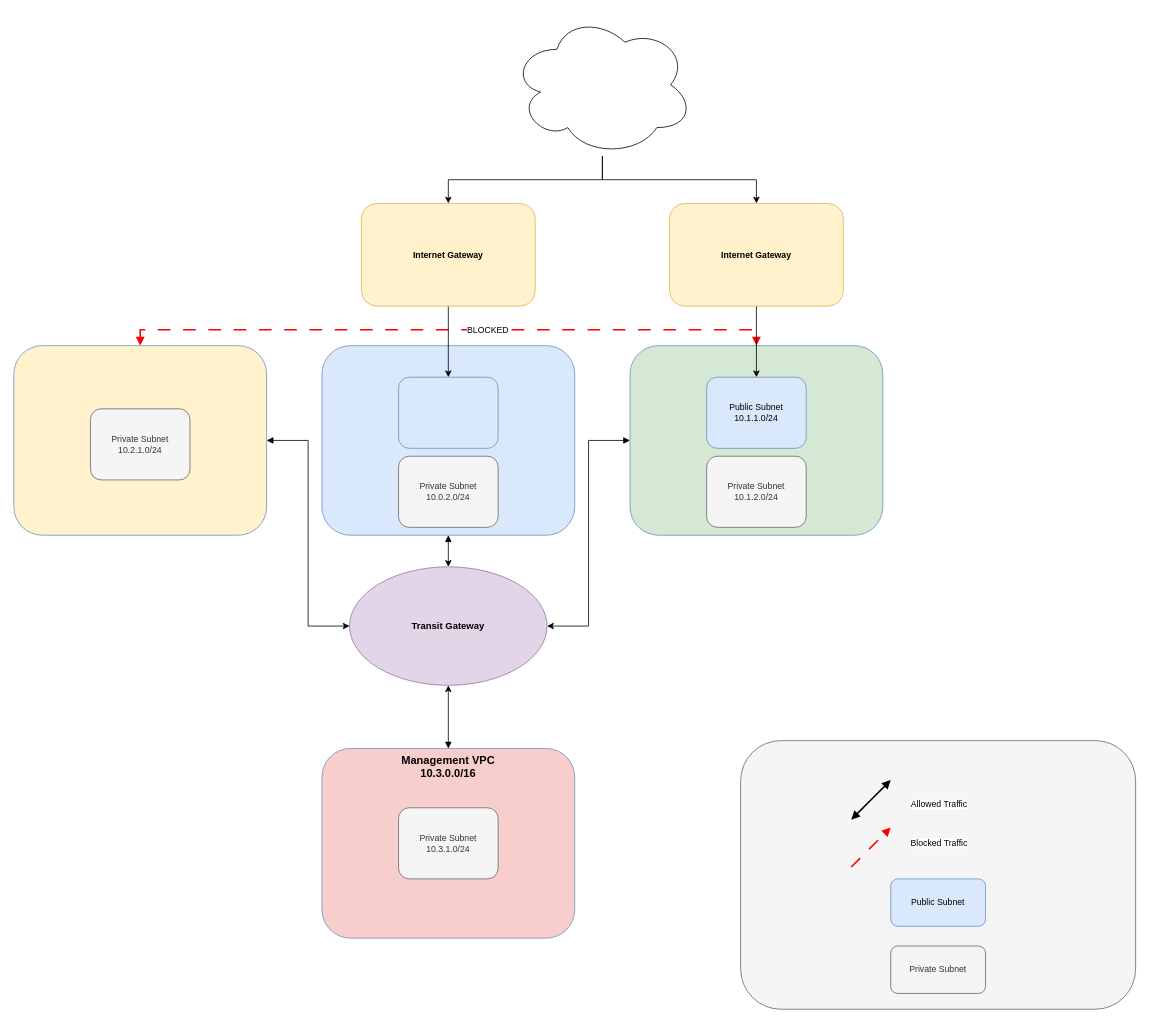
The diagram is 1149 pixels wide and 1023 high, and some of its shapes have lost their labels. Here are the shapes that lost their labels. From the top down, the box of each, then its label:
(511, 13, 693, 156): Internet
(398, 376, 498, 448): Public Subnet 10.0.1.0/24
(13, 345, 267, 535): Development VPC 10.2.0.0/16
(321, 345, 575, 535): Hub VPC 10.0.0.0/16
(629, 345, 883, 535): Production VPC 10.1.0.0/16
(740, 740, 1136, 1009): Legend
